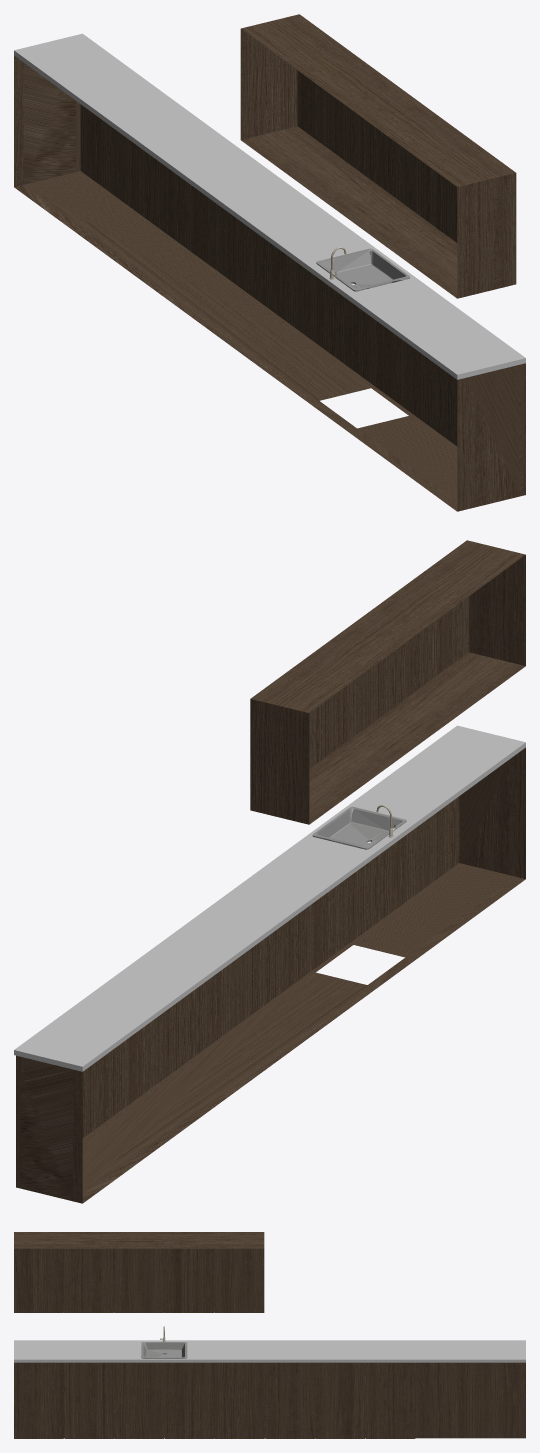
File: MSH_Barra_T2.FBX
3 renders of one model, top to bottom at view 1: azimuth 30°, elevation 25°; view 2: azimuth 150°, elevation 25°; view 3: azimuth 270°, elevation 25°, orthographic. The views are drawn at different scales.
Parts seen in each view (by area): view 1: MSH_Barra_T2; view 2: MSH_Barra_T2; view 3: MSH_Barra_T2.
Part boxes in pixels (x1=…): MSH_Barra_T2: x1=14, y1=14, x2=525, y2=511; MSH_Barra_T2: x1=14, y1=540, x2=525, y2=1203; MSH_Barra_T2: x1=14, y1=1232, x2=525, y2=1438.
Size of the model in its own units: 70.85 by 320 by 792.
